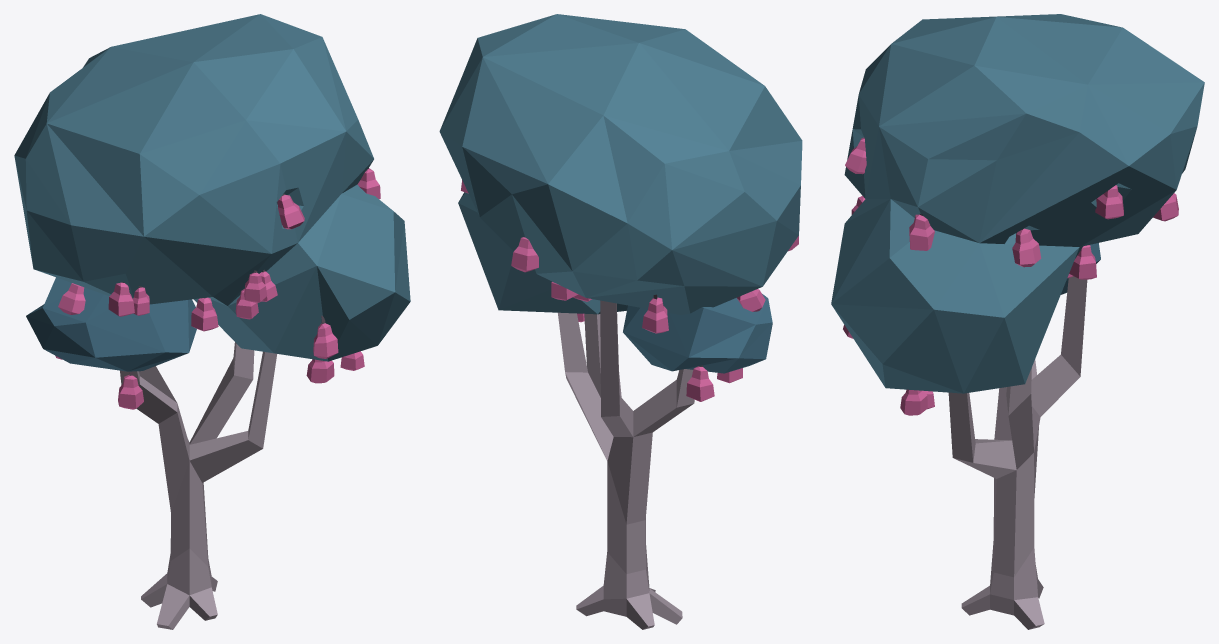
File: SM_Env_Tree_Pear_Grown_01.fbx
The picture shows the model from 3 angles, left to right: view 1: azimuth 30°, elevation 25°; view 2: azimuth 150°, elevation 25°; view 3: azimuth 270°, elevation 25°; orthographic projection. The views are drawn at different scales.
Parts seen in each view (by area): view 1: SM_Env_Tree_Pear_Grown_01; view 2: SM_Env_Tree_Pear_Grown_01; view 3: SM_Env_Tree_Pear_Grown_01.
Part boxes in pixels (x1,y1,x2,y2): SM_Env_Tree_Pear_Grown_01: [14, 14, 410, 629]; SM_Env_Tree_Pear_Grown_01: [439, 14, 802, 629]; SM_Env_Tree_Pear_Grown_01: [831, 14, 1204, 629].
Bounding box in the file's own units: 2.39 × 3.82 × 2.15.
Materials: 1 (1 with a texture image).
